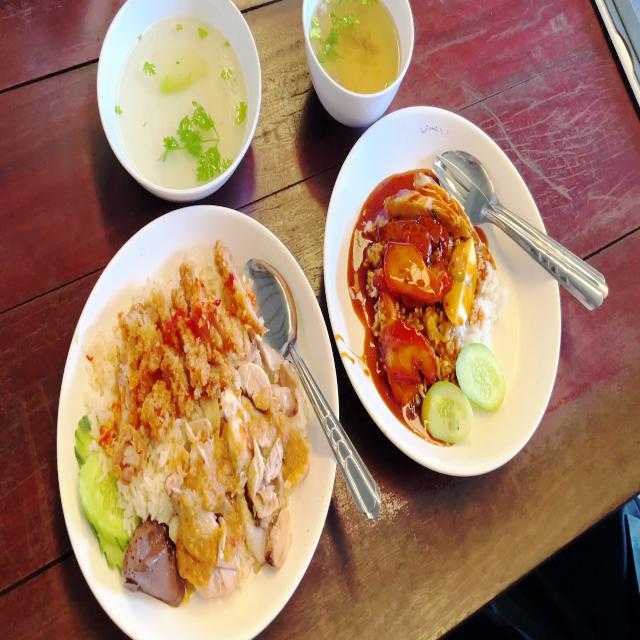boiled_chicken: (182, 350, 299, 575)
boiled_chicken_blood_jelly: (122, 518, 186, 607)
boiled_egg: (445, 237, 477, 316)
chainese_sausage: (372, 212, 452, 259)
chicken_rice: (68, 240, 316, 616)
crispy_pork: (384, 173, 472, 234)
cucumber: (75, 413, 129, 567), (456, 344, 503, 410), (421, 382, 471, 444)
fried_chicken: (108, 240, 262, 477)
red_pork: (379, 317, 435, 405), (384, 242, 446, 302)
red_pork_and_crispy_pork: (356, 177, 510, 442)
